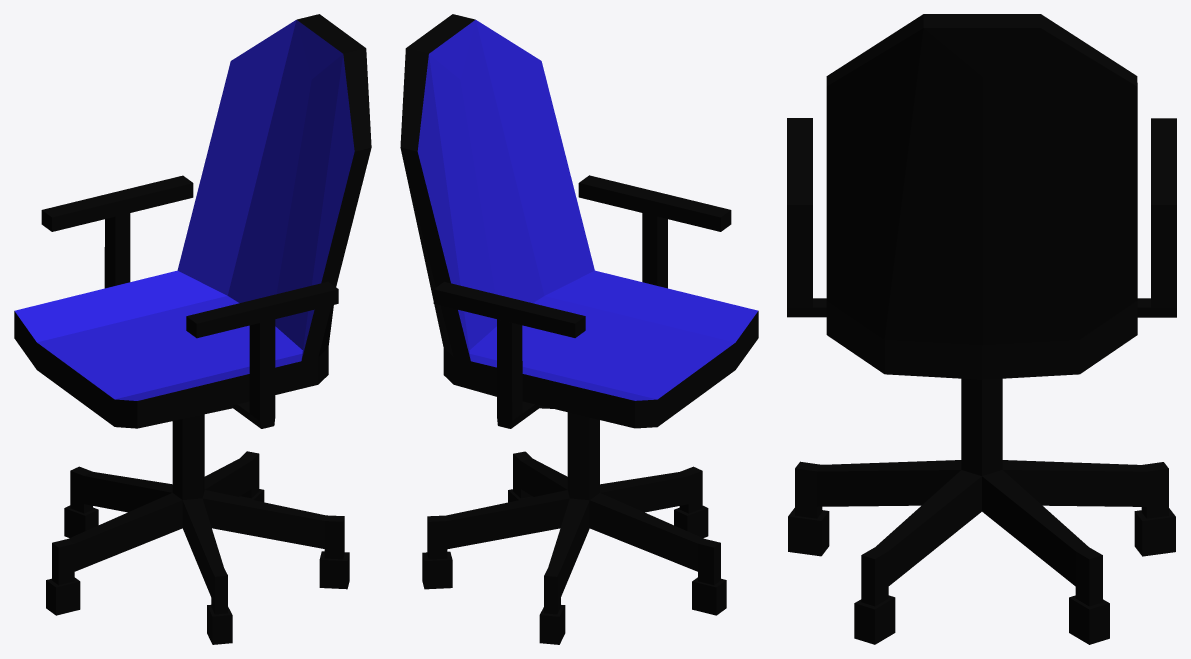
File: chair.fbx
3 views of the same model, side by side, from view 1: azimuth 30°, elevation 25°; view 2: azimuth 150°, elevation 25°; view 3: azimuth 270°, elevation 25° (orthographic). The views are drawn at different scales.
Parts seen in each view (by area): view 1: chair; view 2: chair; view 3: chair.
Boxes of the visible parts, x1,y1,x2,y2 form: chair: [14, 14, 371, 644]; chair: [400, 14, 758, 644]; chair: [787, 14, 1176, 644].
Bounding box in the file's own units: 65.07 × 108 × 60.
